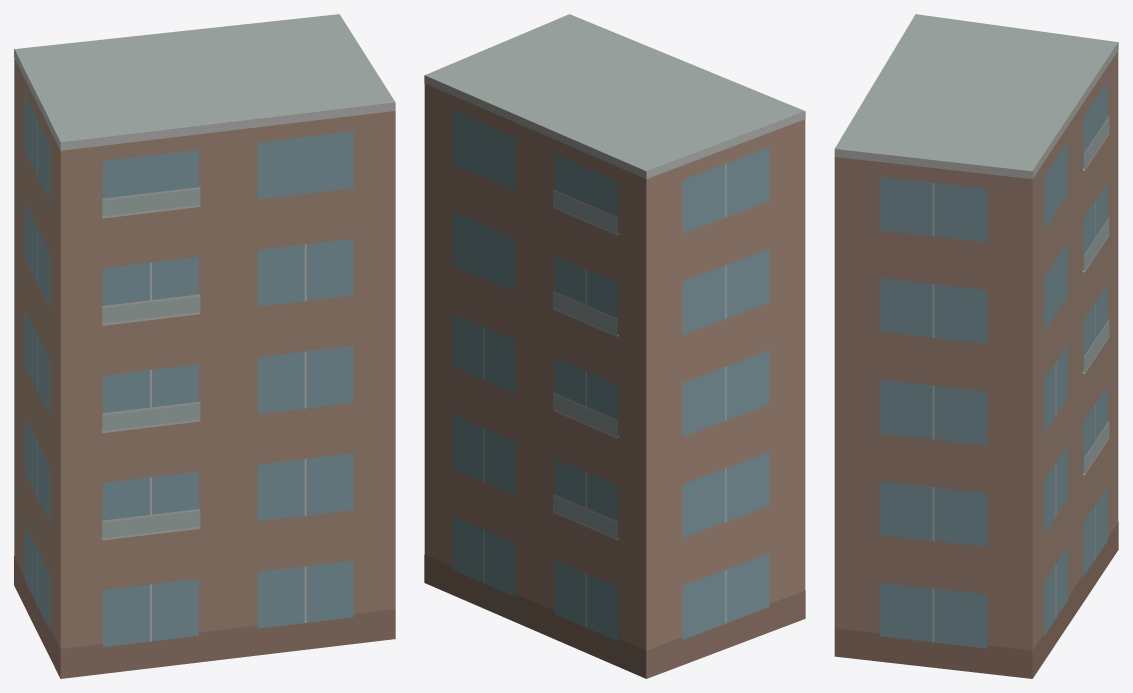
Rendered from survey-upis-32484740.glb.
The picture shows the model from 3 angles, left to right: view 1: azimuth 30°, elevation 25°; view 2: azimuth 150°, elevation 25°; view 3: azimuth 270°, elevation 25°; orthographic projection. The views are drawn at different scales.
Visible parts, largest first — view 1: survey-upis-32484740.tmp; view 2: survey-upis-32484740.tmp; view 3: survey-upis-32484740.tmp.
Part boxes in pixels (box(x1,y1,x2,y2)): survey-upis-32484740.tmp: box(14, 14, 395, 678); survey-upis-32484740.tmp: box(424, 14, 805, 678); survey-upis-32484740.tmp: box(834, 14, 1118, 678).
Bounding box in the file's own units: 10.38 × 15.6 × 7.92.
